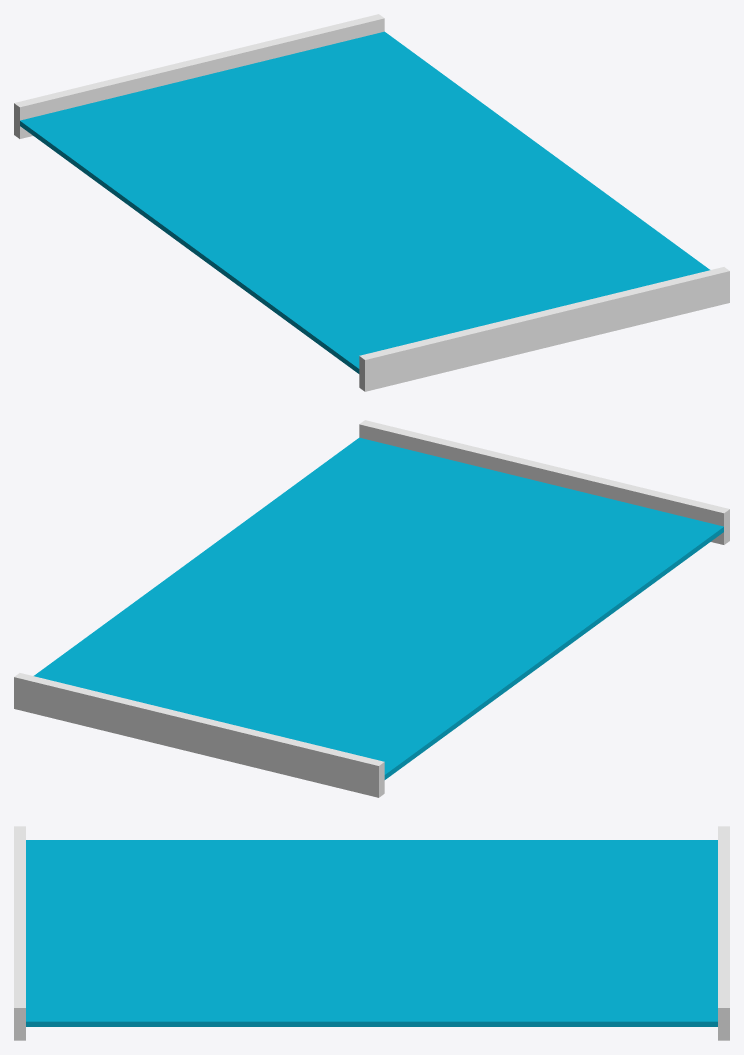
3 renders of one model, top to bottom at view 1: azimuth 30°, elevation 25°; view 2: azimuth 150°, elevation 25°; view 3: azimuth 270°, elevation 25°, orthographic.
Visible parts, largest first — view 1: 0_0_2_2_2_1_3_2_1; view 2: 0_0_2_2_2_1_3_2_1; view 3: 0_0_2_2_2_1_3_2_1.
Part boxes in pixels (x1,y1,x2,y2): 0_0_2_2_2_1_3_2_1: (14, 14, 729, 391); 0_0_2_2_2_1_3_2_1: (14, 420, 729, 797); 0_0_2_2_2_1_3_2_1: (14, 826, 729, 1040).
Size of the model in its own units: 1.8 by 0.15 by 3.
